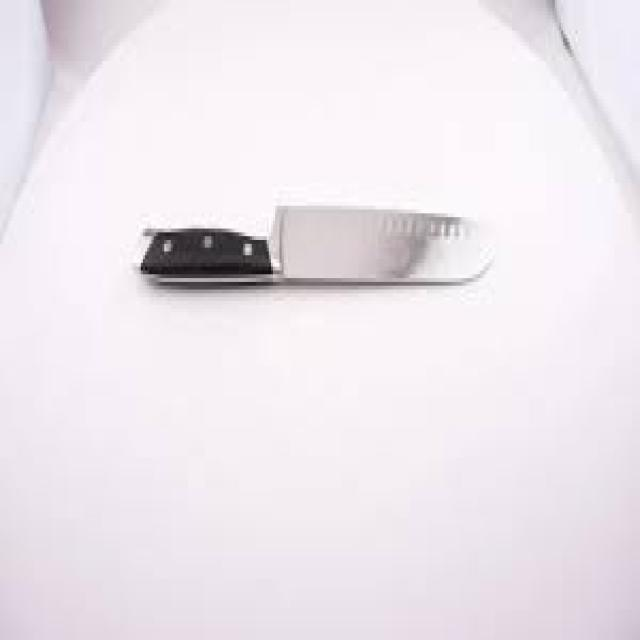Knife: (134, 202, 495, 286)
